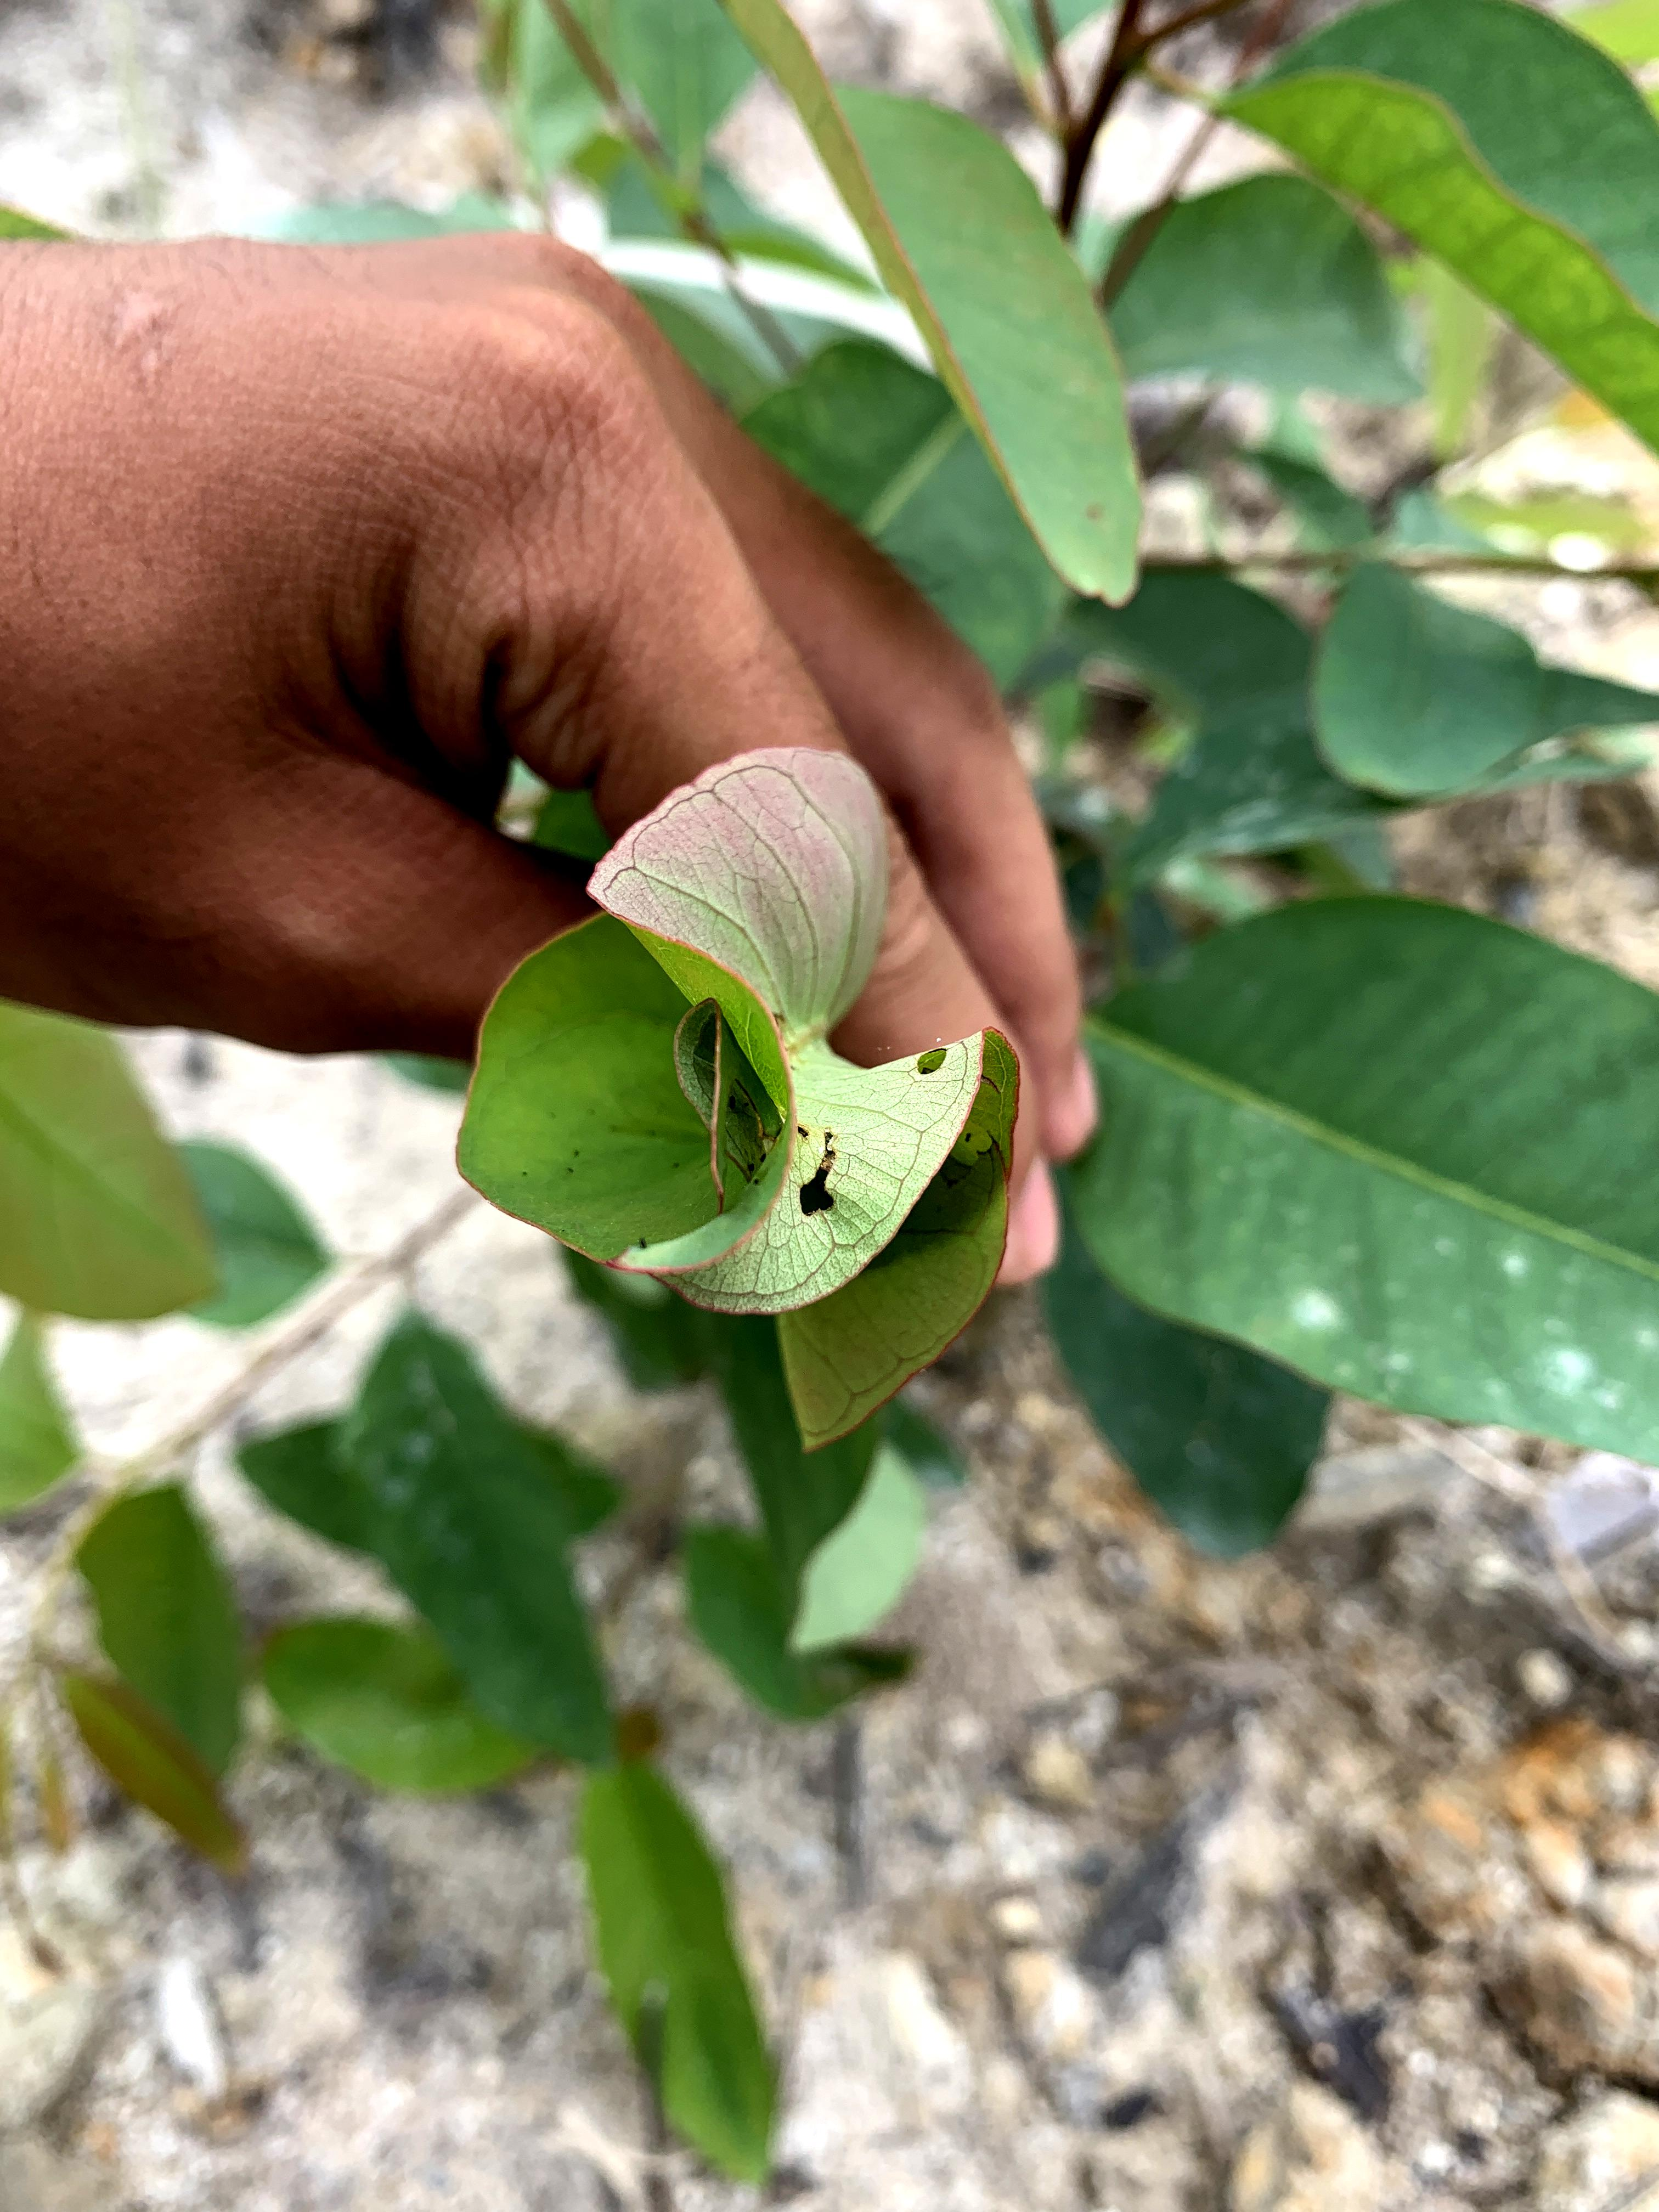Leaf Roller - Leaf: (420, 698, 1021, 1444)
